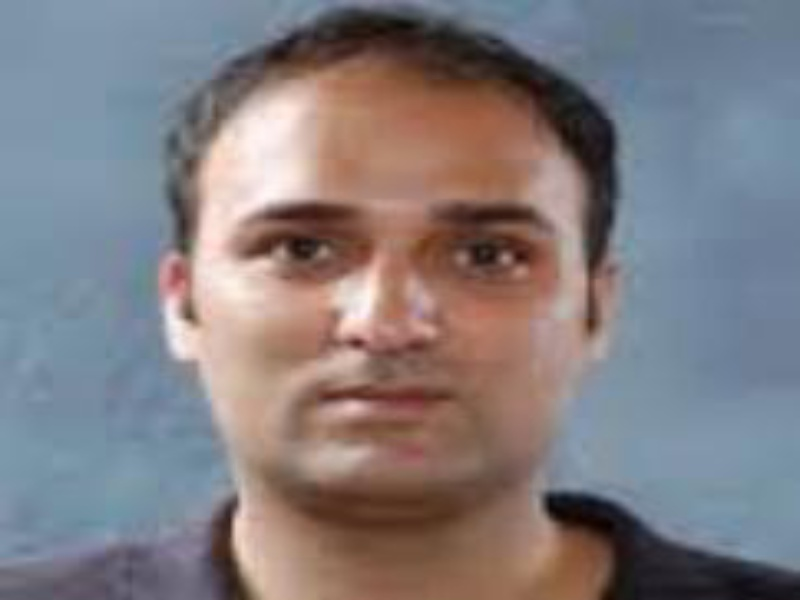TsisyArotava: (140, 6, 637, 548)
